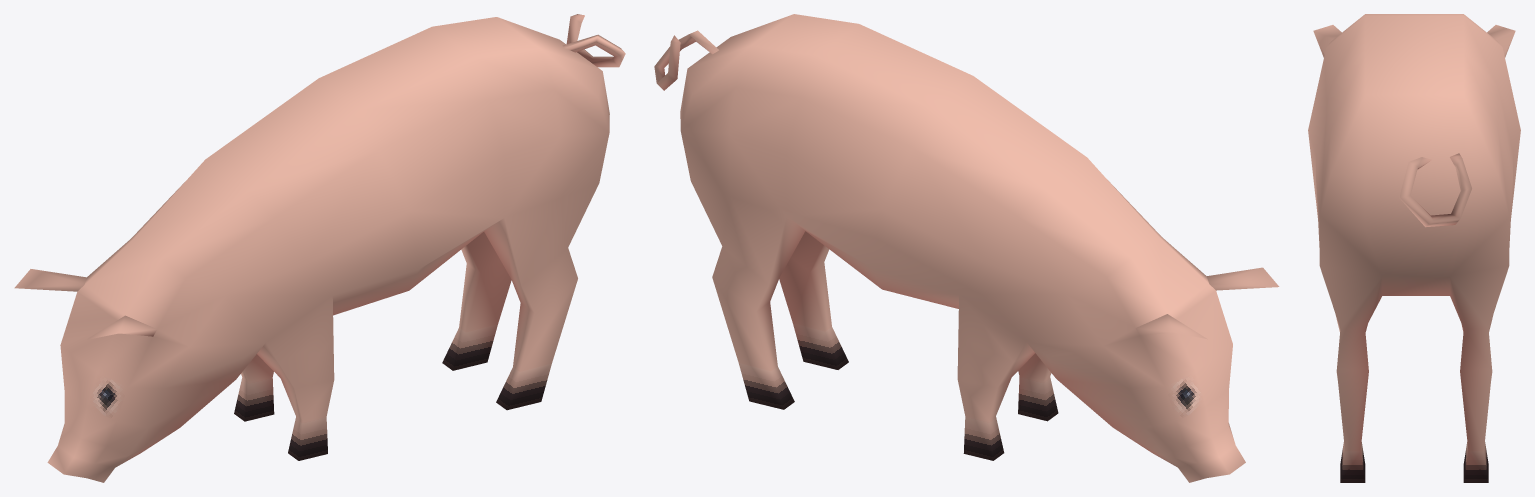
Rendered from pig.gltf.
3 renders of one model, left to right at view 1: azimuth 30°, elevation 25°; view 2: azimuth 150°, elevation 25°; view 3: azimuth 270°, elevation 25°, orthographic. The views are drawn at different scales.
Visible parts, largest first — view 1: pig_head1.m; view 2: pig_head1.m; view 3: pig_head1.m.
Part boxes in pixels (left/top/right/bottom): pig_head1.m: left=14, top=14, right=625, bottom=482; pig_head1.m: left=654, top=14, right=1279, bottom=482; pig_head1.m: left=1308, top=14, right=1520, bottom=482.
Bounding box in the file's own units: 5.22 × 3.02 × 1.46.
Materials: 1 (1 with a texture image).
